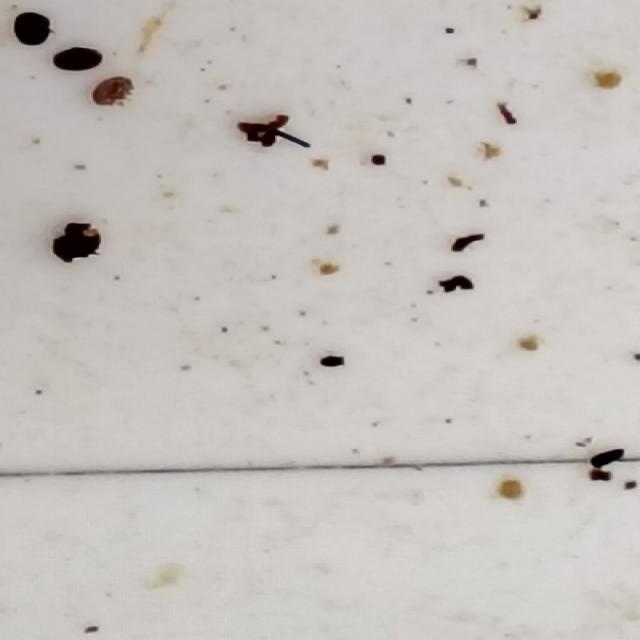varroa: (14, 8, 53, 48), (52, 48, 107, 76)
